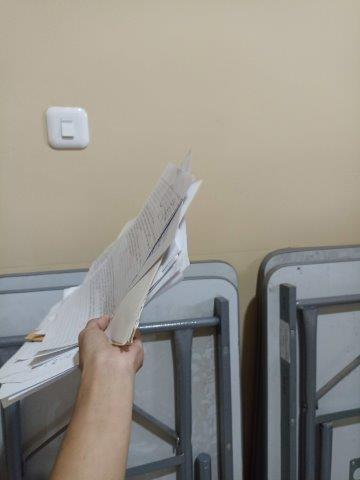kertas: (1, 148, 203, 410)
